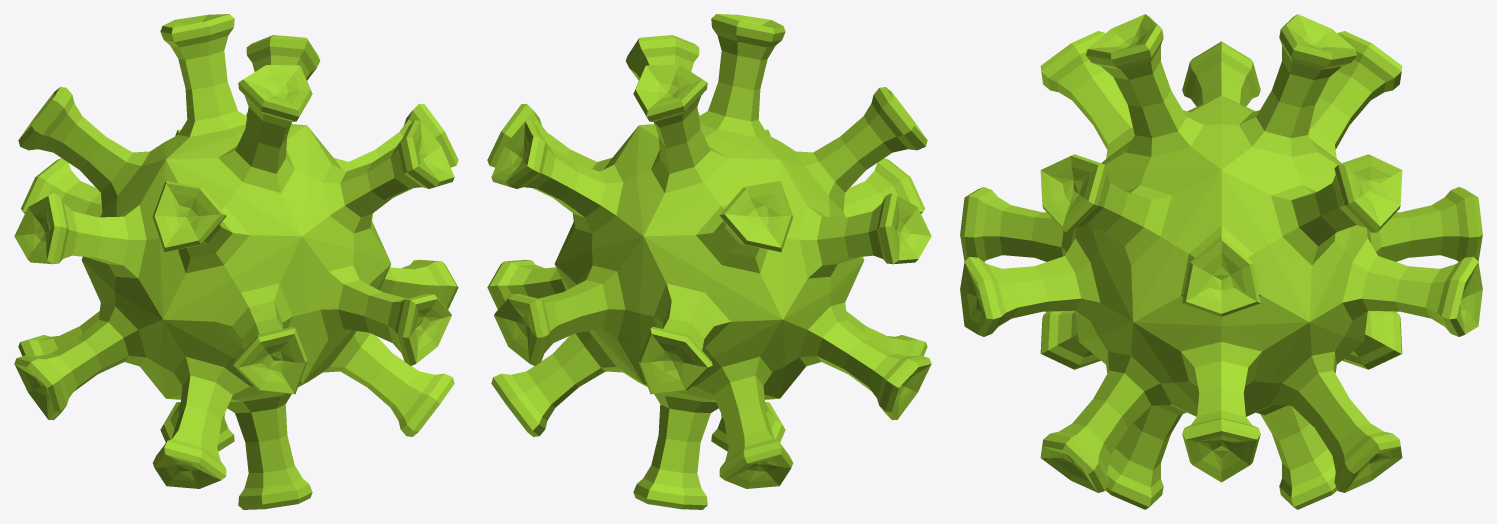
File: 031c5b83-daf8-4427-ba12-dcddc7e6e0ce.glb
3 views of the same model, side by side, from view 1: azimuth 30°, elevation 25°; view 2: azimuth 150°, elevation 25°; view 3: azimuth 270°, elevation 25° (orthographic). The views are drawn at different scales.
Visible parts, largest first — view 1: Virus; view 2: Virus; view 3: Virus.
Part boxes in pixels (x1,y1,x2,y2): Virus: (14,14,458,509); Virus: (487,14,931,509); Virus: (960,14,1482,509).
Bounding box in the file's own units: 21.19 × 21.19 × 21.19.
1 material, 1 textured.
